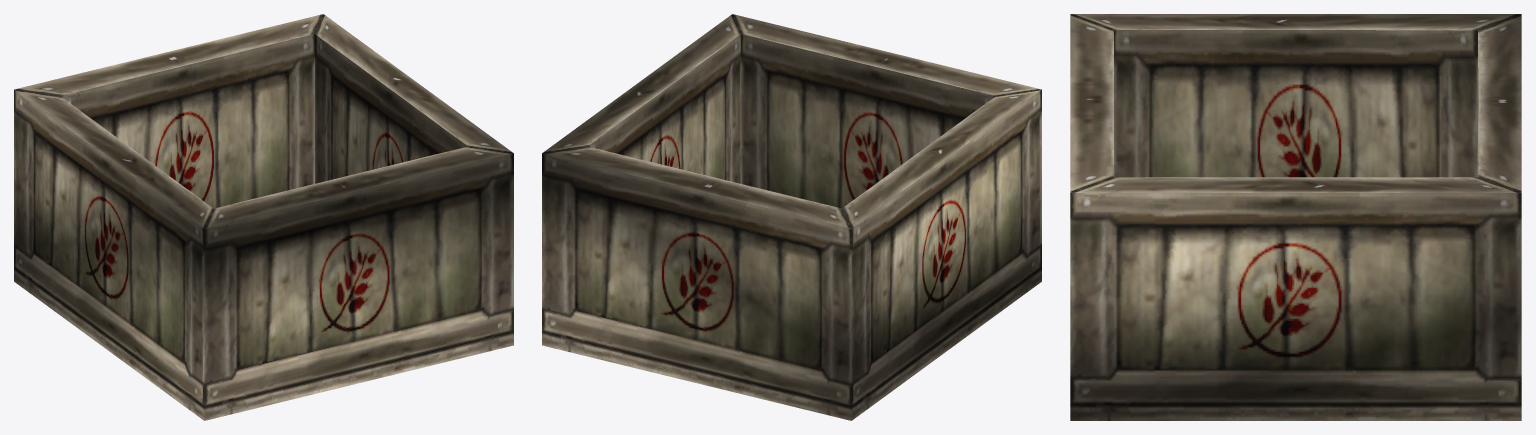
The model's file is crategrainempty.obj.
3 renders of one model, left to right at view 1: azimuth 30°, elevation 25°; view 2: azimuth 150°, elevation 25°; view 3: azimuth 270°, elevation 25°, orthographic. The views are drawn at different scales.
Parts seen in each view (by area): view 1: CRATEGRAINEMPTY0; view 2: CRATEGRAINEMPTY0; view 3: CRATEGRAINEMPTY0.
Boxes of the visible parts, x1,y1,x2,y2 form: CRATEGRAINEMPTY0: (14,14,513,420); CRATEGRAINEMPTY0: (542,14,1041,420); CRATEGRAINEMPTY0: (1070,14,1521,420).
Bounding box in the file's own units: 1.24 × 0.7376 × 1.32.
1 material, 1 textured.
